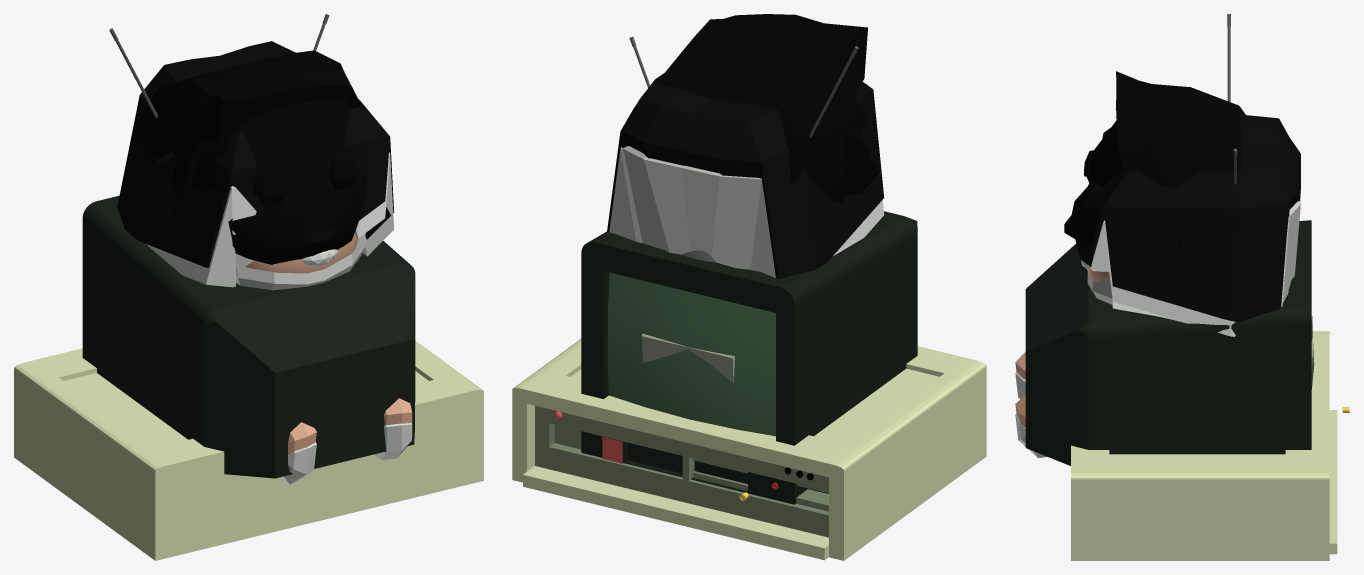
Rendered from diskette.fbx.
3 renders of one model, left to right at view 1: azimuth 30°, elevation 25°; view 2: azimuth 150°, elevation 25°; view 3: azimuth 270°, elevation 25°, orthographic. The views are drawn at different scales.
Visible parts, largest first — view 1: TV_main, compaq, char_lowPoly01, hair, playerMesh_01, head, player_arms, player_arms.001; view 2: compaq, TV_main, char_lowPoly01, hair, screen, playerMesh_01, 90s_computer, antennas; view 3: TV_main, compaq, hair, char_lowPoly01, playerMesh_01, antennas.
Part boxes in pixels (x1,y1,x2,y2): TV_main: (82, 195, 415, 478); compaq: (14, 341, 483, 560); char_lowPoly01: (137, 50, 367, 264); hair: (117, 41, 394, 267); playerMesh_01: (146, 152, 412, 484); head: (245, 233, 358, 273); player_arms: (288, 422, 316, 453); player_arms.001: (384, 398, 412, 424); compaq: (512, 339, 986, 560); TV_main: (581, 211, 917, 504); char_lowPoly01: (657, 14, 880, 202); hair: (607, 73, 884, 279); screen: (607, 272, 775, 436); playerMesh_01: (609, 146, 884, 278); 90s_computer: (642, 333, 734, 383); antennas: (629, 36, 858, 262); TV_main: (1025, 220, 1311, 465); compaq: (1071, 331, 1337, 560); hair: (1090, 114, 1300, 322); char_lowPoly01: (1064, 71, 1245, 267); playerMesh_01: (1015, 190, 1300, 458); antennas: (1227, 14, 1237, 184).
Size of the model in its own units: 268 by 365 by 258.
